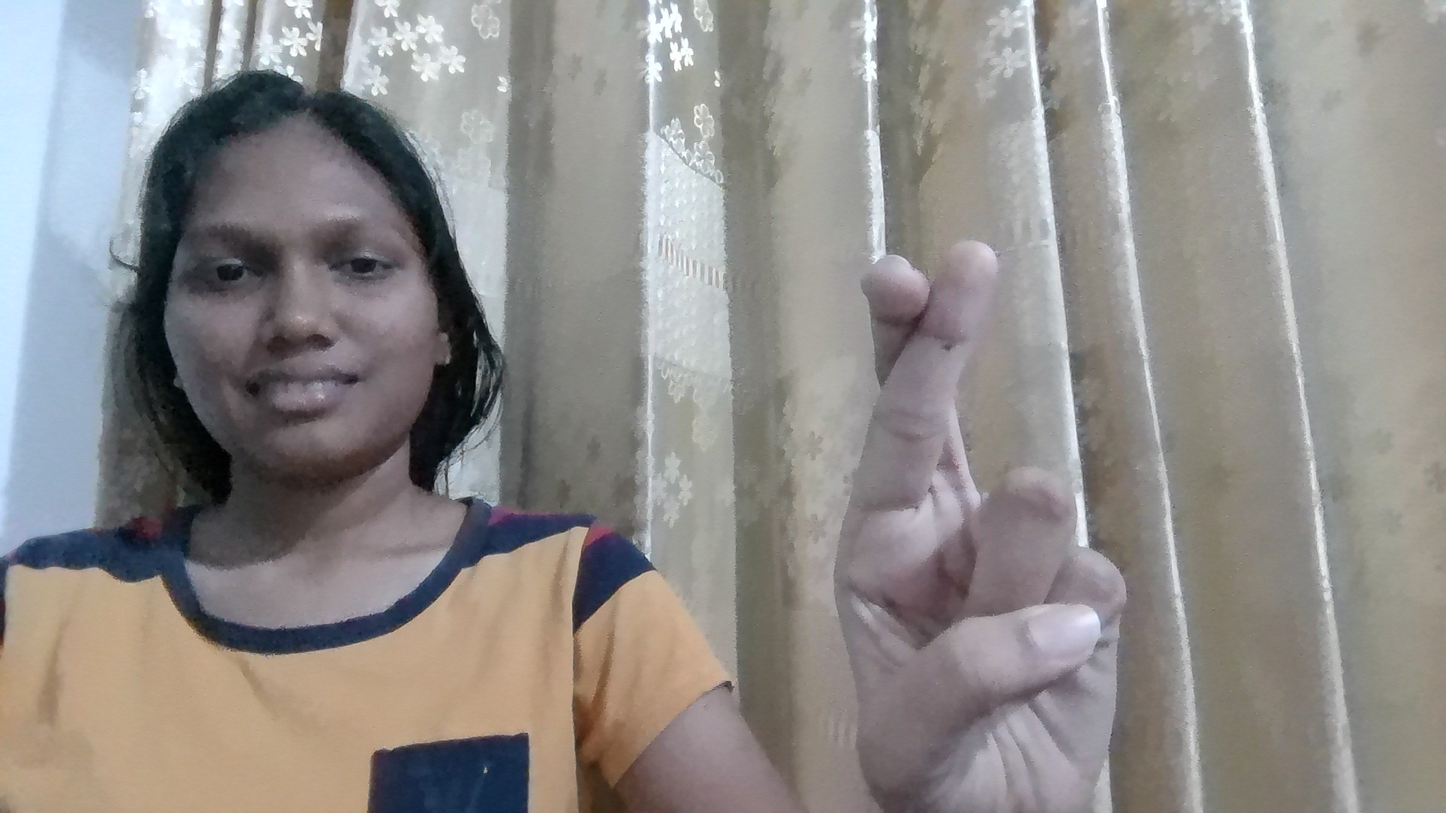Good_Luck: (823, 198, 1219, 813)
